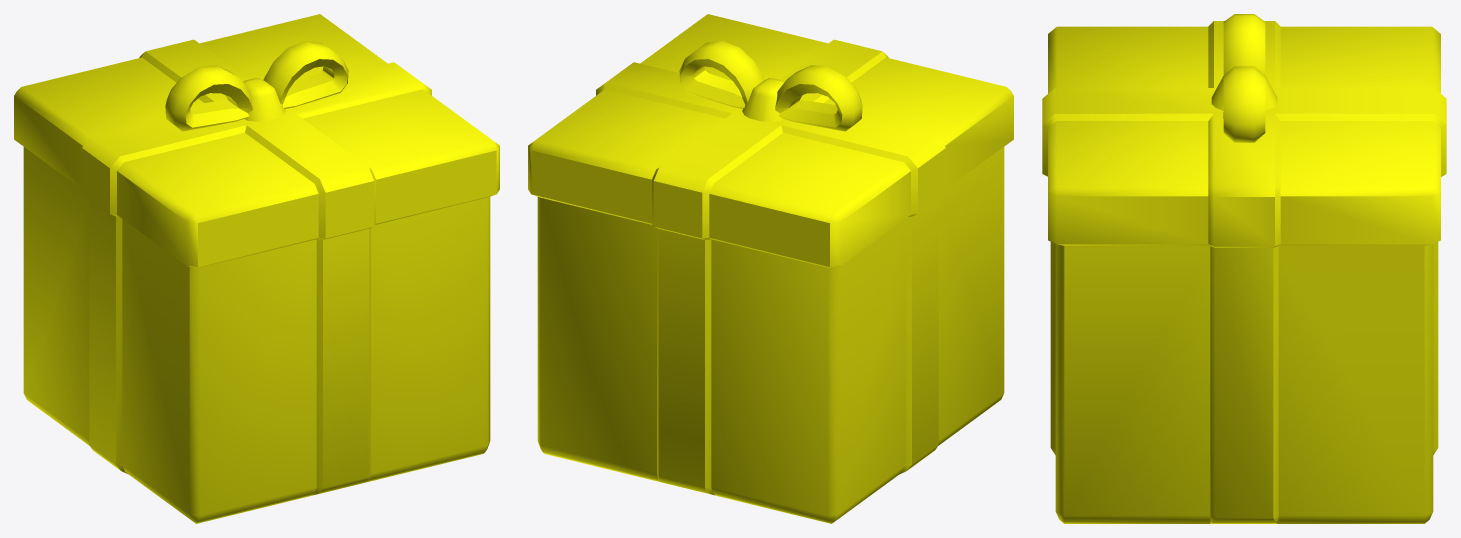
File: kaykit-present-d-green.glb
3 views of the same model, side by side, from view 1: azimuth 30°, elevation 25°; view 2: azimuth 150°, elevation 25°; view 3: azimuth 270°, elevation 25° (orthographic). The views are drawn at different scales.
Parts seen in each view (by area): view 1: present_D_green; view 2: present_D_green; view 3: present_D_green.
Part boxes in pixels (<box>): present_D_green: <box>14,14,499,523</box>; present_D_green: <box>528,14,1013,523</box>; present_D_green: <box>1042,14,1446,523</box>.
Size of the model in its own units: 0.9637 by 1.06 by 0.9637.
